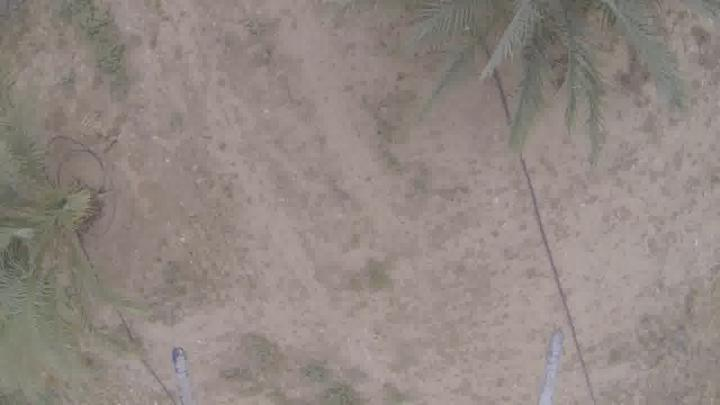Date-Palm-Crown: (479, 1, 674, 86), (0, 156, 68, 356)
